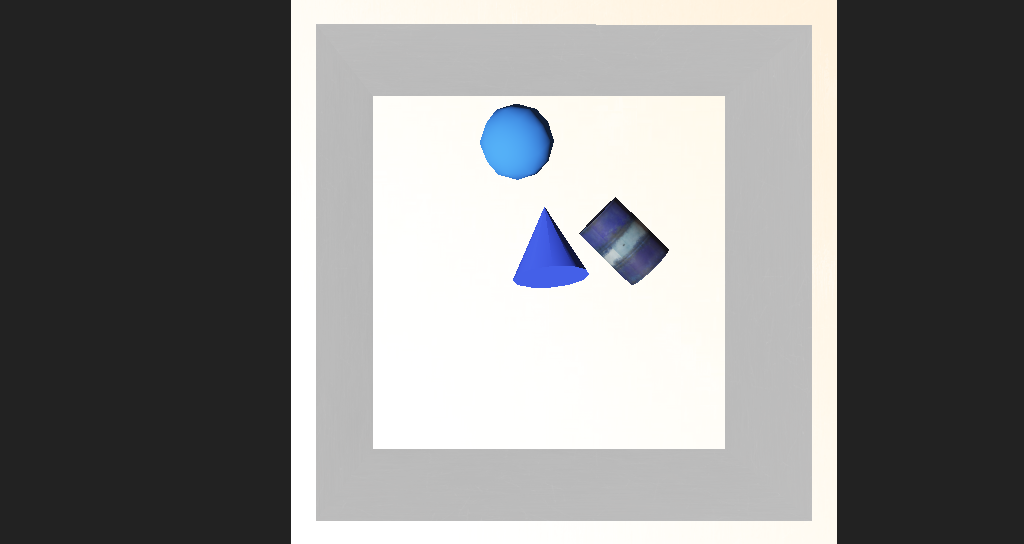cone: (536, 220, 610, 277)
cylinder: (465, 217, 532, 279)
sphere: (448, 169, 509, 212)
